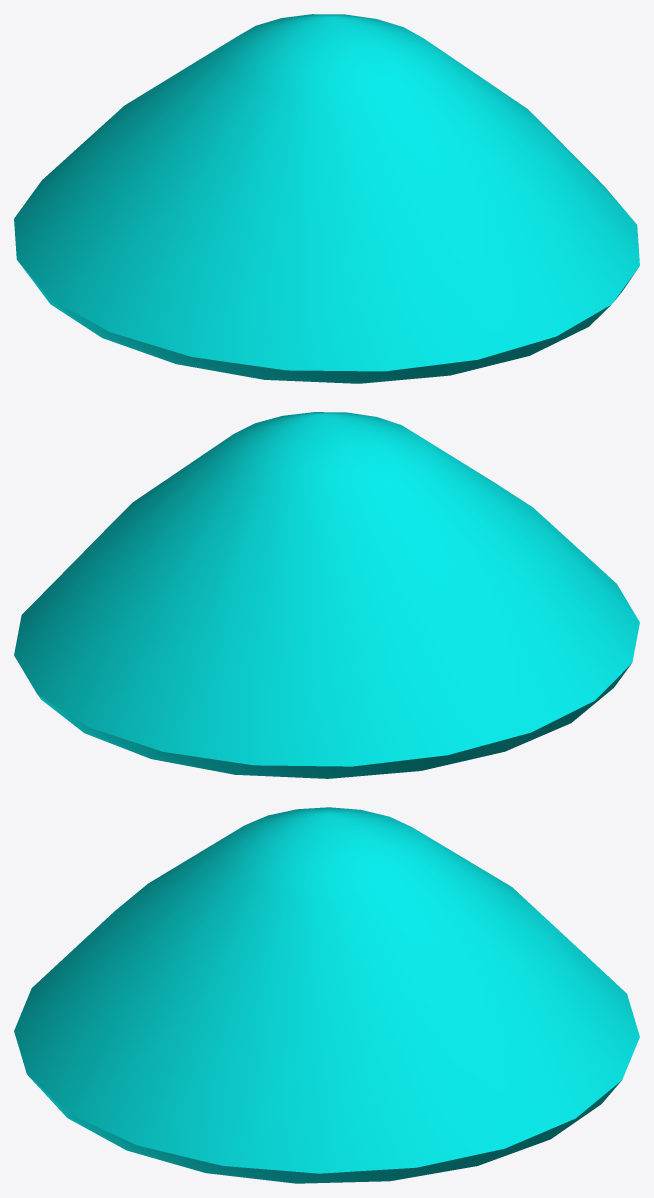
Rendered from propeller_cover4.fbx.
The picture shows the model from 3 angles, top to bottom: view 1: azimuth 30°, elevation 25°; view 2: azimuth 150°, elevation 25°; view 3: azimuth 270°, elevation 25°; orthographic projection.
Parts seen in each view (by area): view 1: polySurface21; view 2: polySurface21; view 3: polySurface21.
Part boxes in pixels (box(x1,y1,x2,y2)): polySurface21: box(14, 14, 639, 383); polySurface21: box(14, 412, 639, 778); polySurface21: box(14, 807, 639, 1183).
Bounding box in the file's own units: 0.6036 × 0.2612 × 0.6038.
